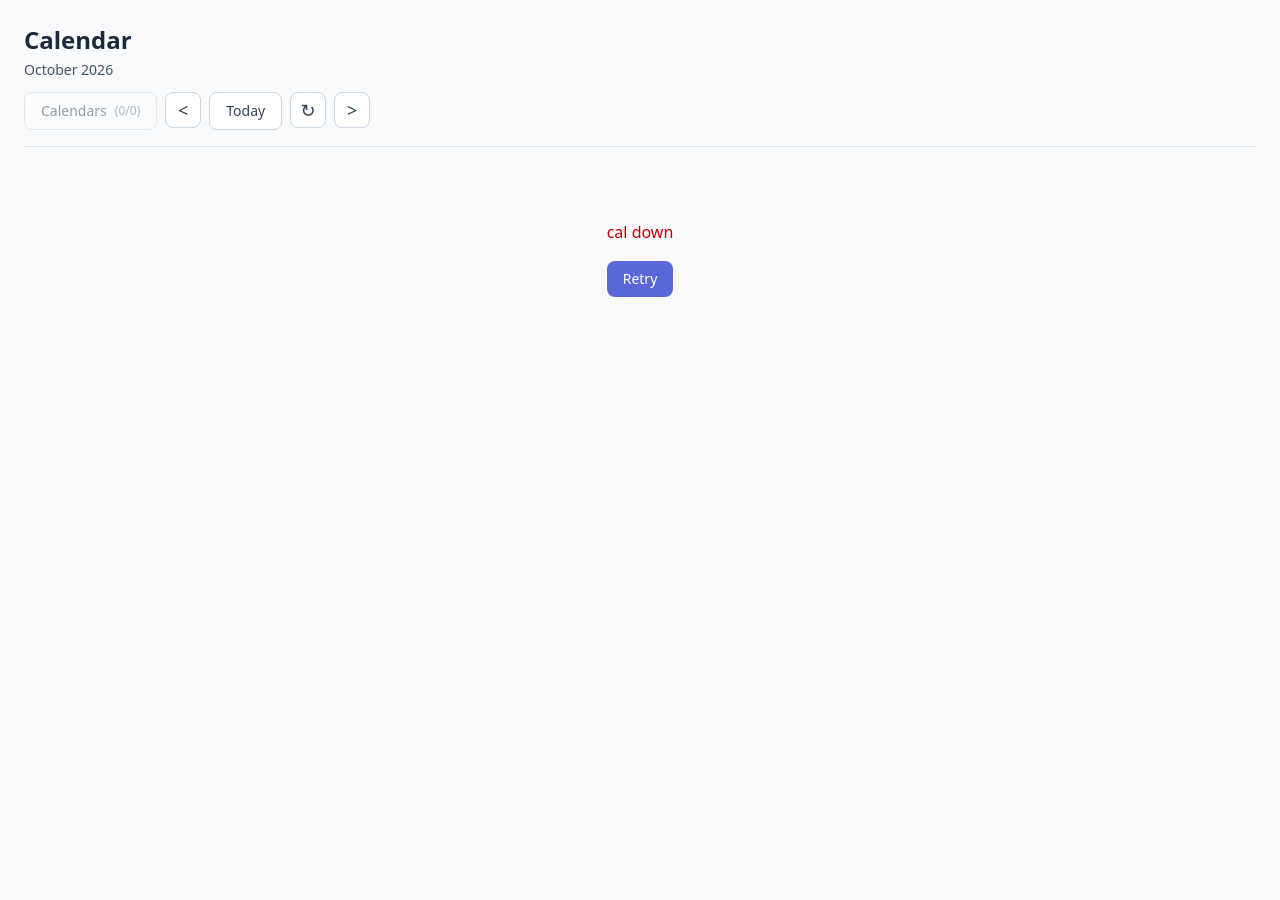
Test: Calendar › shows an error banner with retry on load failure
Expected: the text "cal down" is shown, [607,221,673,243]
Click the button "Retry" at point(640, 279), box [607,261,673,297]
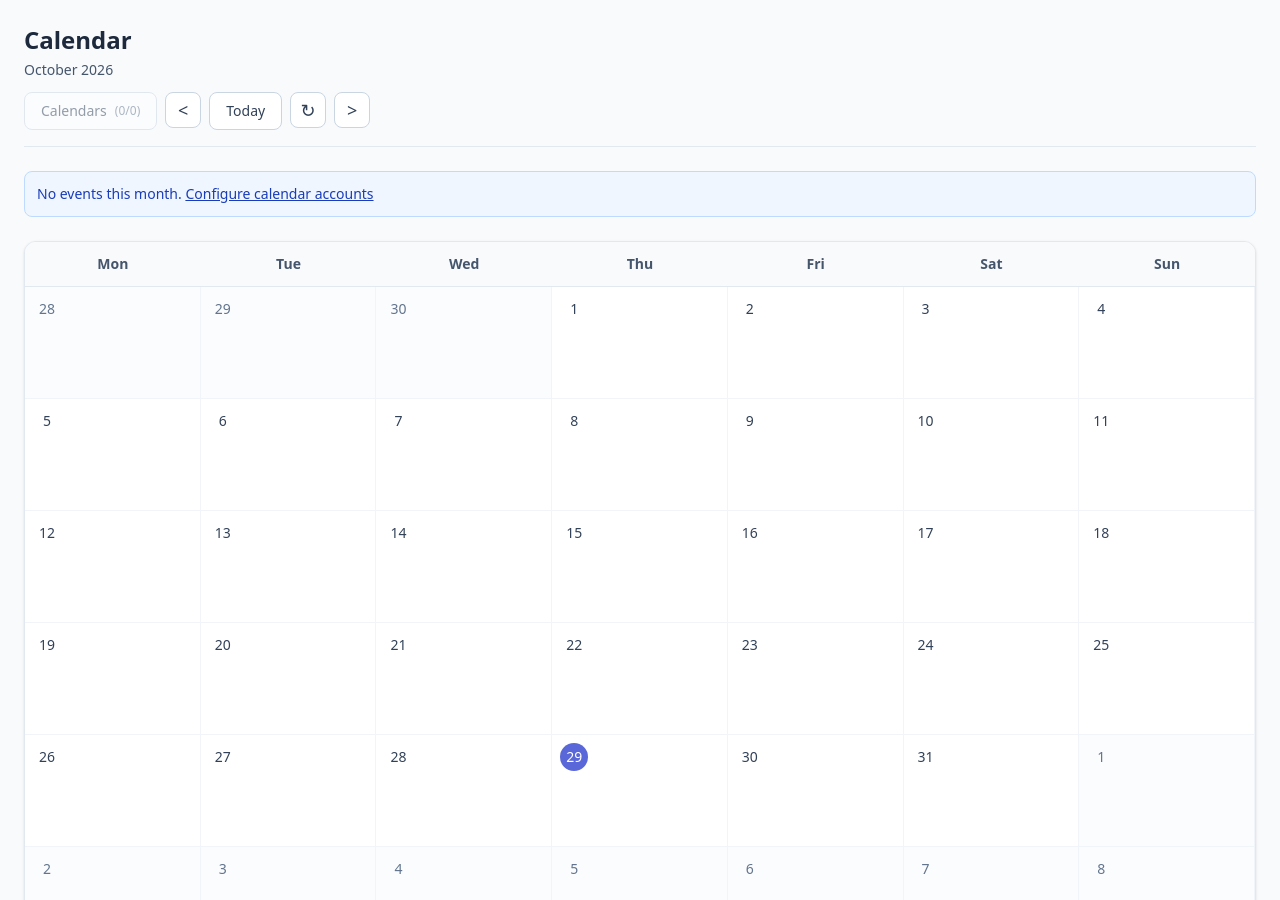
Expected: the text "cal down" is gone
